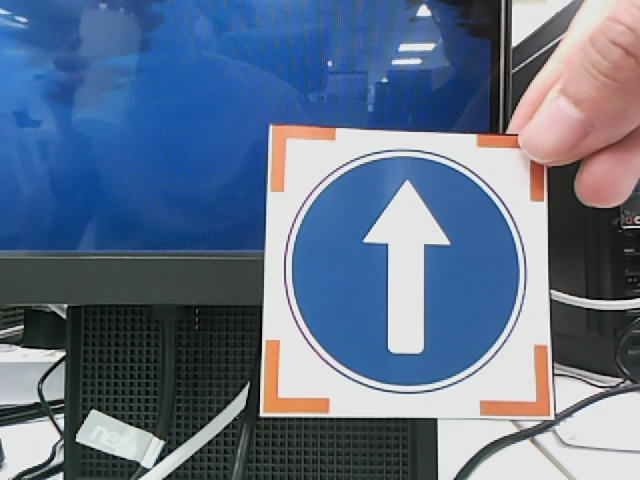go: (283, 150, 528, 394)
